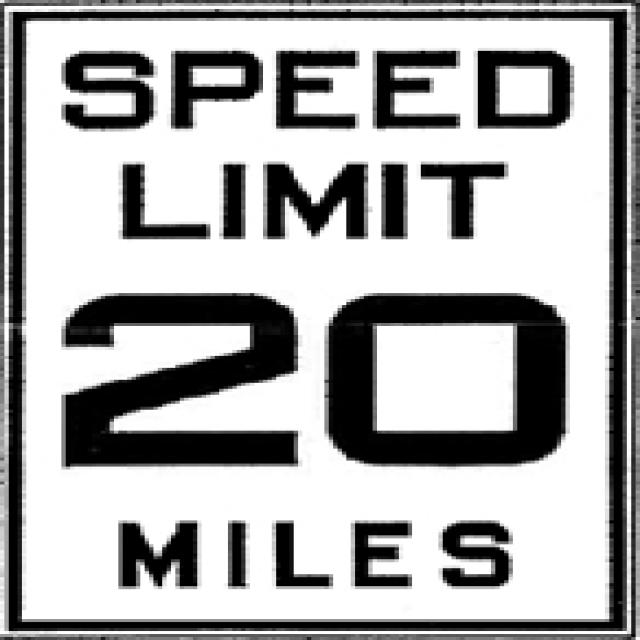speedLimit20: (4, 16, 632, 624)
